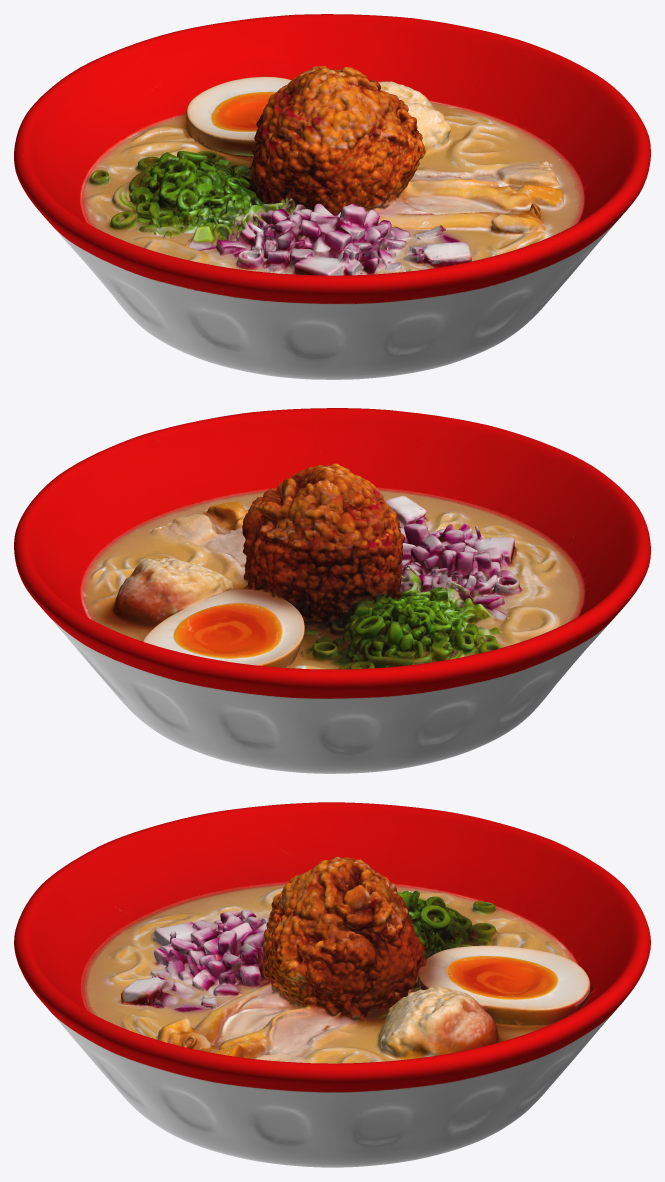
File: rameshkaramiso.glb
3 views of the same model, one above another, from view 1: azimuth 30°, elevation 25°; view 2: azimuth 150°, elevation 25°; view 3: azimuth 270°, elevation 25° (orthographic).
Size of the model in its own units: 0.5696 by 0.2514 by 0.5697.
Materials: 1 (1 with a texture image).
